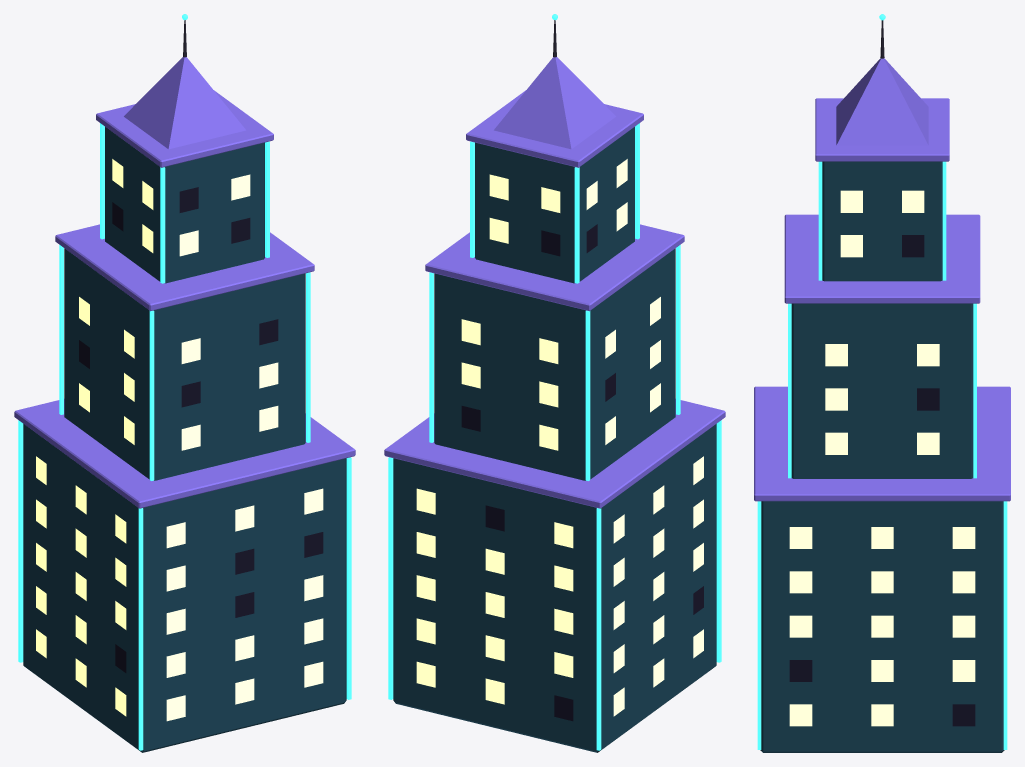
File: building_c.glb
3 renders of one model, left to right at view 1: azimuth 30°, elevation 25°; view 2: azimuth 150°, elevation 25°; view 3: azimuth 270°, elevation 25°, orthographic. The views are drawn at different scales.
Visible parts, largest first — view 1: building_c; view 2: building_c; view 3: building_c.
Boxes of the visible parts, x1,y1,x2,y2 form: building_c: (14, 14, 355, 752); building_c: (384, 14, 725, 752); building_c: (754, 14, 1010, 752).
Bounding box in the file's own units: 12.6 × 37.26 × 12.6.
